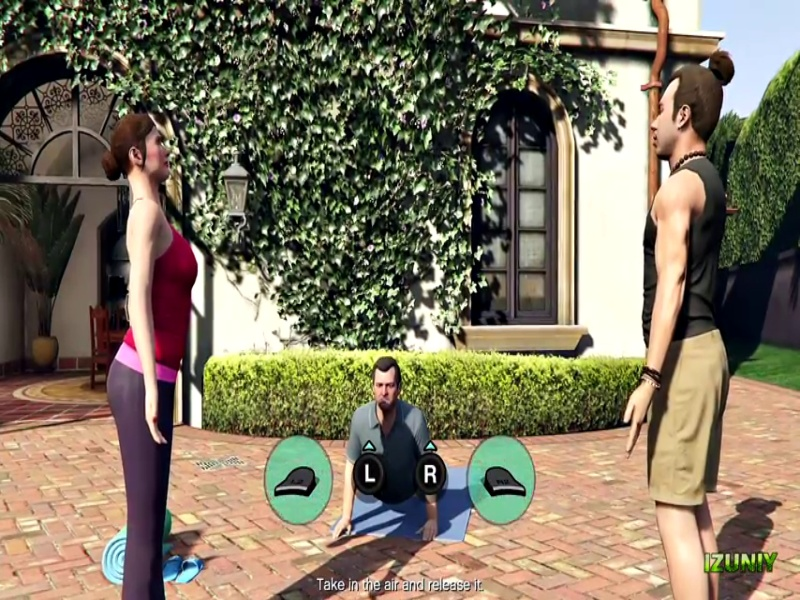human: (345, 351, 448, 539)
